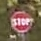stop: (9, 10, 32, 33)
